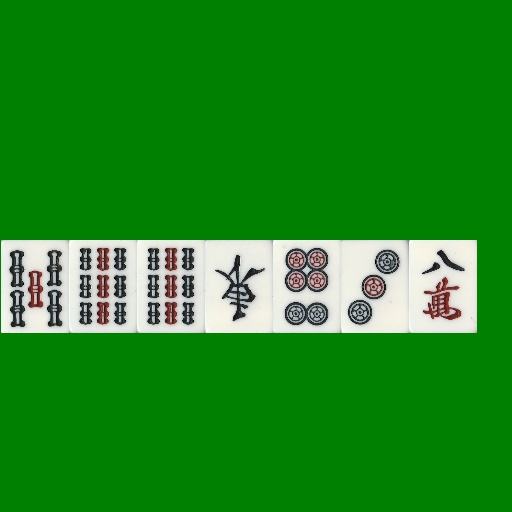3p: (341, 240, 409, 333)
5s: (1, 240, 69, 333)
6p: (273, 240, 341, 333)
8m: (409, 240, 477, 333)
9s: (69, 240, 137, 333), (137, 240, 205, 333)
east: (205, 240, 273, 333)
